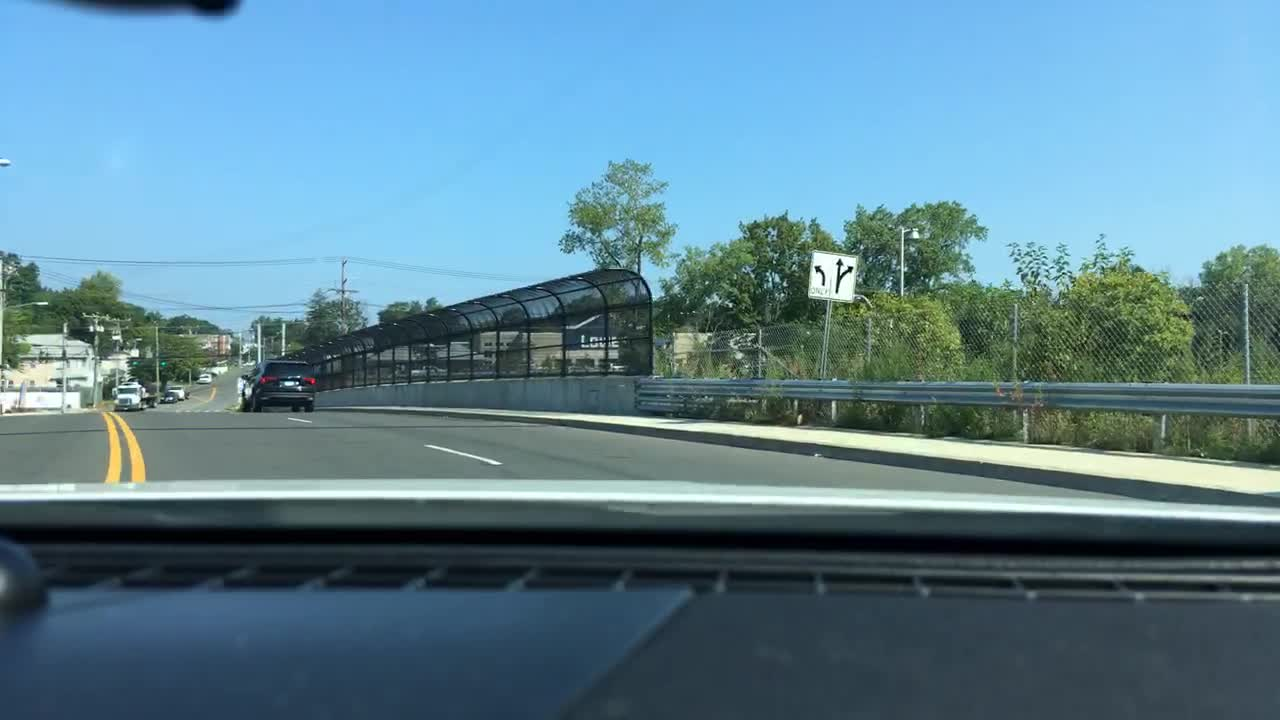car: (239, 358, 316, 411), (164, 386, 189, 401), (155, 391, 178, 404)
traffic light: (131, 356, 138, 367), (159, 358, 166, 368)
traffic sign: (804, 247, 857, 302)
truck: (110, 379, 151, 414), (198, 371, 212, 385)
